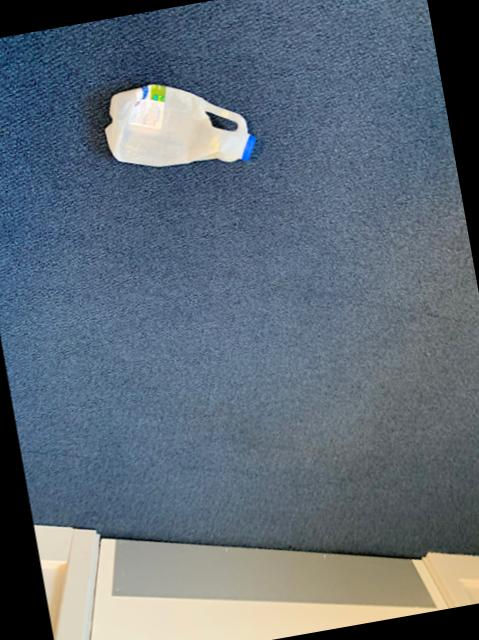plastic: (103, 86, 253, 167)
